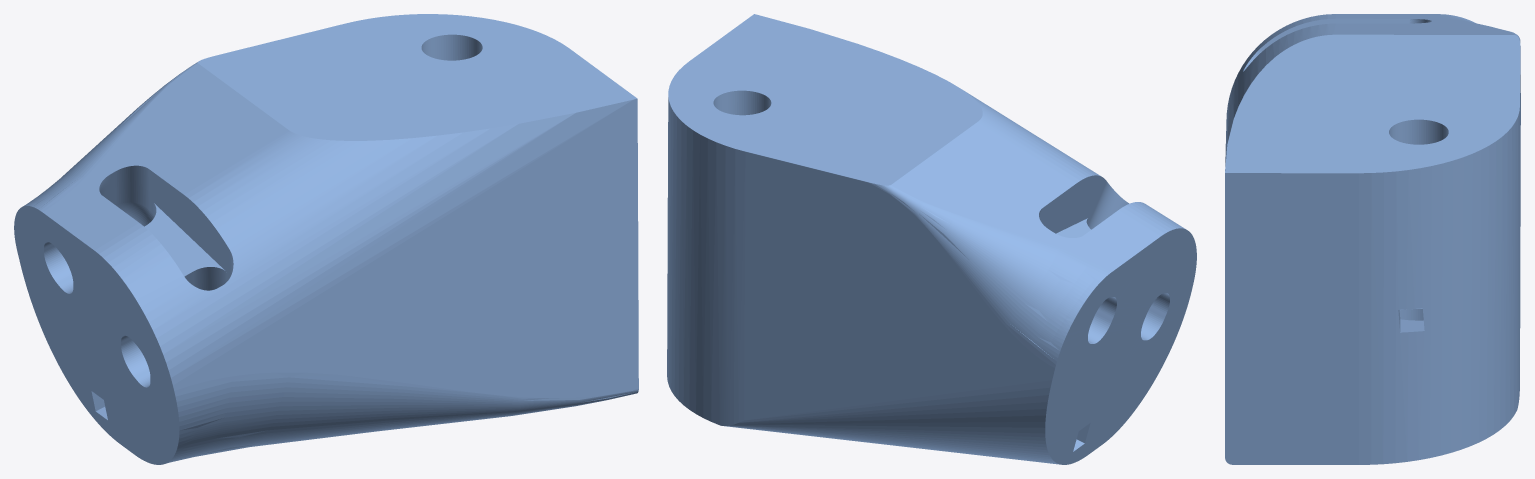
File: pulgar_1_izq.dae
3 renders of one model, left to right at view 1: azimuth 30°, elevation 25°; view 2: azimuth 150°, elevation 25°; view 3: azimuth 270°, elevation 25°, orthographic. The views are drawn at different scales.
Visible parts, largest first — view 1: Hand5Thumb3; view 2: Hand5Thumb3; view 3: Hand5Thumb3.
Part boxes in pixels (x1,y1,x2,y2): Hand5Thumb3: [14, 14, 638, 464]; Hand5Thumb3: [667, 14, 1196, 464]; Hand5Thumb3: [1225, 14, 1520, 464].
Size of the model in its own units: 0.0412 by 0.0221 by 0.0242.
